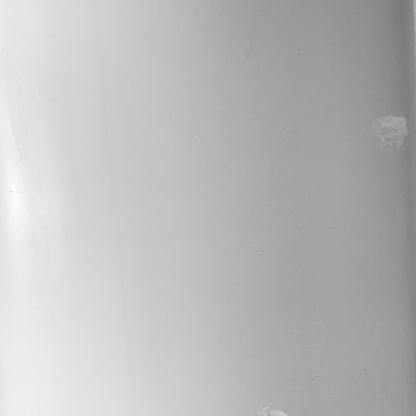sunshang: (369, 110, 409, 151)
